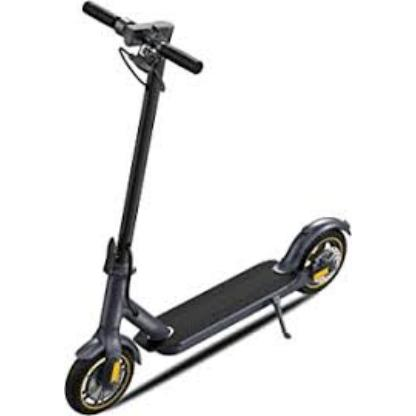bike: (61, 2, 354, 415)
